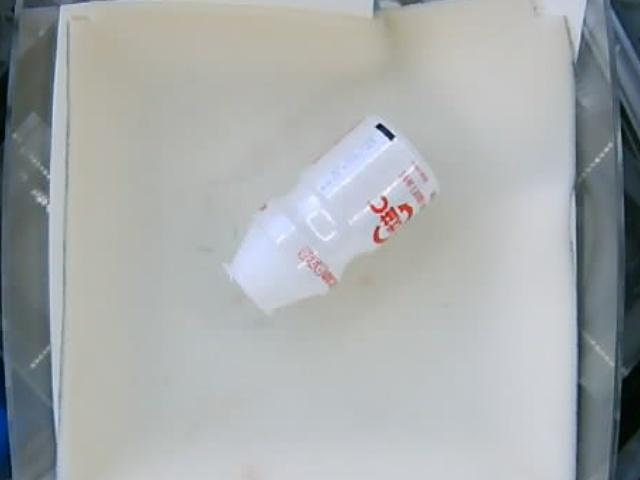Bottle: (229, 114, 437, 315)
